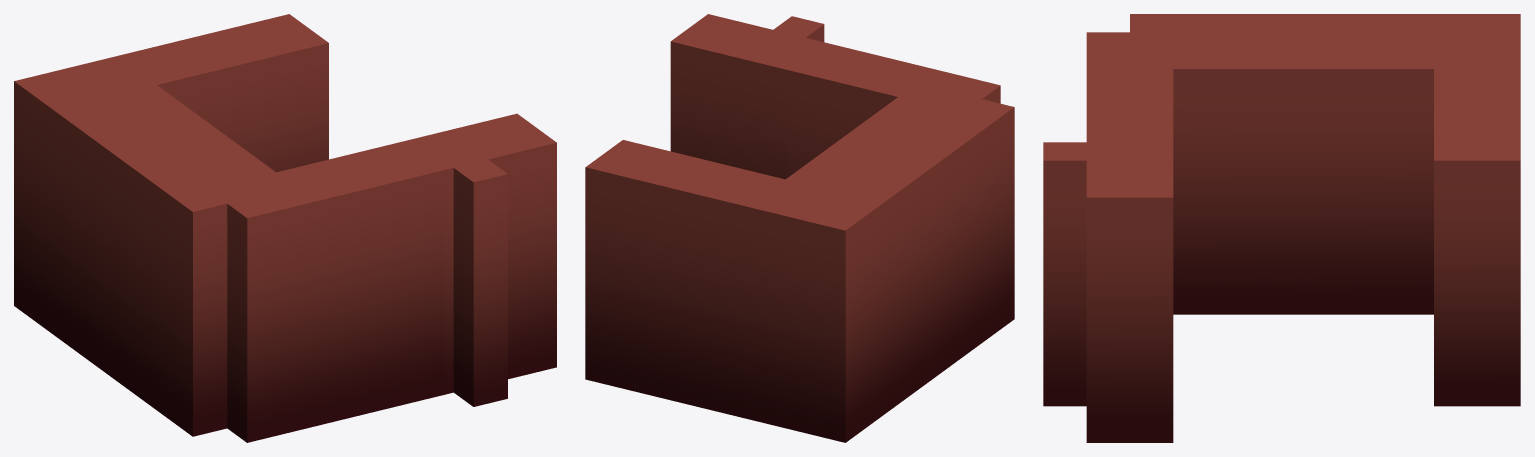
3 renders of one model, left to right at view 1: azimuth 30°, elevation 25°; view 2: azimuth 150°, elevation 25°; view 3: azimuth 270°, elevation 25°, orthographic. The views are drawn at different scales.
Parts seen in each view (by area): view 1: 固定地基一楼; view 2: 固定地基一楼; view 3: 固定地基一楼.
Boxes of the visible parts, left/top/right/bottom form: 固定地基一楼: left=14, top=14, right=556, bottom=442; 固定地基一楼: left=585, top=14, right=1014, bottom=442; 固定地基一楼: left=1043, top=14, right=1520, bottom=442.
Size of the model in its own units: 2000 by 1248 by 2200.
